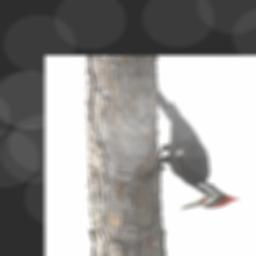Woodpecker: (158, 87, 241, 210)
